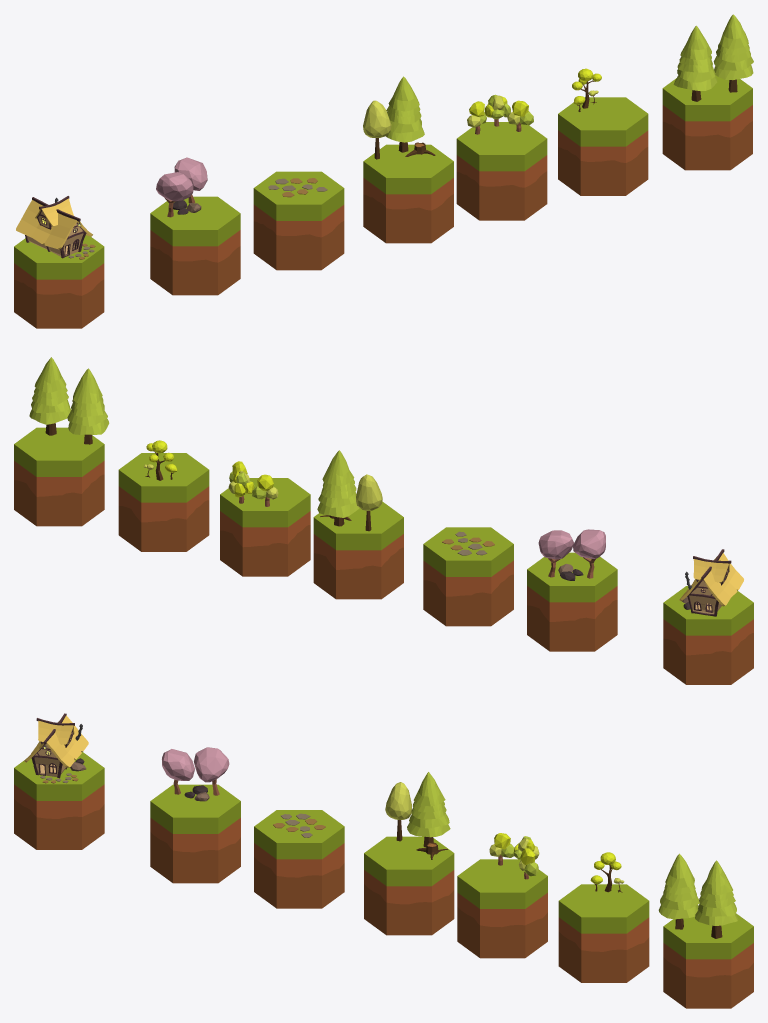
Rendered from grass_tile_variations.fbx.
The picture shows the model from 3 angles, top to bottom: view 1: azimuth 30°, elevation 25°; view 2: azimuth 150°, elevation 25°; view 3: azimuth 330°, elevation 25°; orthographic projection.
Parts seen in each view (by area): view 1: Cylinder.007, Cylinder.005, Cylinder.001, Cylinder.010, Cylinder.011, Cylinder.002, Cylinder.008, Cylinder.003, Cylinder.004, Cylinder, Cube.003, Icosphere.011 (+4 smaller); view 2: Cylinder.002, Cylinder.005, Cylinder.010, Cylinder.011, Cylinder.007, Cylinder.001, Cylinder.008, Cylinder.004, Cylinder.003, Cylinder, Cube.003, Icosphere.012 (+3 smaller); view 3: Cylinder.005, Cylinder.007, Cylinder.001, Cylinder.011, Cylinder.010, Cylinder.002, Cylinder.008, Cylinder.004, Cylinder, Cylinder.003, Icosphere.012, Cube.003 (+5 smaller).
Boxes of the visible parts, x1,y1,x2,y2 form: Cylinder.007: [456, 122, 547, 220]; Cylinder.005: [558, 97, 648, 195]; Cylinder.001: [363, 144, 453, 243]; Cylinder.010: [253, 171, 344, 270]; Cylinder.011: [150, 196, 240, 295]; Cylinder.002: [662, 75, 752, 170]; Cylinder.008: [14, 235, 104, 328]; Cylinder.003: [673, 25, 717, 101]; Cylinder.004: [713, 14, 753, 92]; Cylinder: [386, 76, 424, 152]; Cube.003: [16, 200, 92, 249]; Icosphere.011: [156, 172, 193, 217]; Cylinder.002: [14, 427, 104, 526]; Cylinder.005: [118, 453, 209, 551]; Cylinder.010: [423, 527, 513, 626]; Cylinder.011: [527, 552, 617, 651]; Cylinder.007: [220, 478, 310, 576]; Cylinder.001: [313, 501, 403, 599]; Cylinder.008: [663, 586, 753, 684]; Cylinder.004: [29, 357, 71, 435]; Cylinder.003: [67, 368, 109, 444]; Cylinder: [317, 450, 359, 526]; Cube.003: [679, 553, 743, 606]; Icosphere.012: [538, 530, 573, 577]; Cylinder.005: [558, 884, 649, 982]; Cylinder.007: [457, 859, 547, 958]; Cylinder.001: [364, 836, 454, 935]; Cylinder.011: [150, 784, 240, 883]; Cylinder.010: [254, 810, 344, 908]; Cylinder.002: [663, 913, 753, 1008]; Cylinder.008: [14, 752, 104, 849]; Cylinder.004: [695, 860, 738, 938]; Cylinder: [407, 772, 450, 846]; Cylinder.003: [658, 853, 699, 929]; Icosphere.012: [194, 747, 229, 795]; Cube.003: [24, 715, 88, 767].
Bounding box in the file's own units: 9165 × 1732 × 1009.
